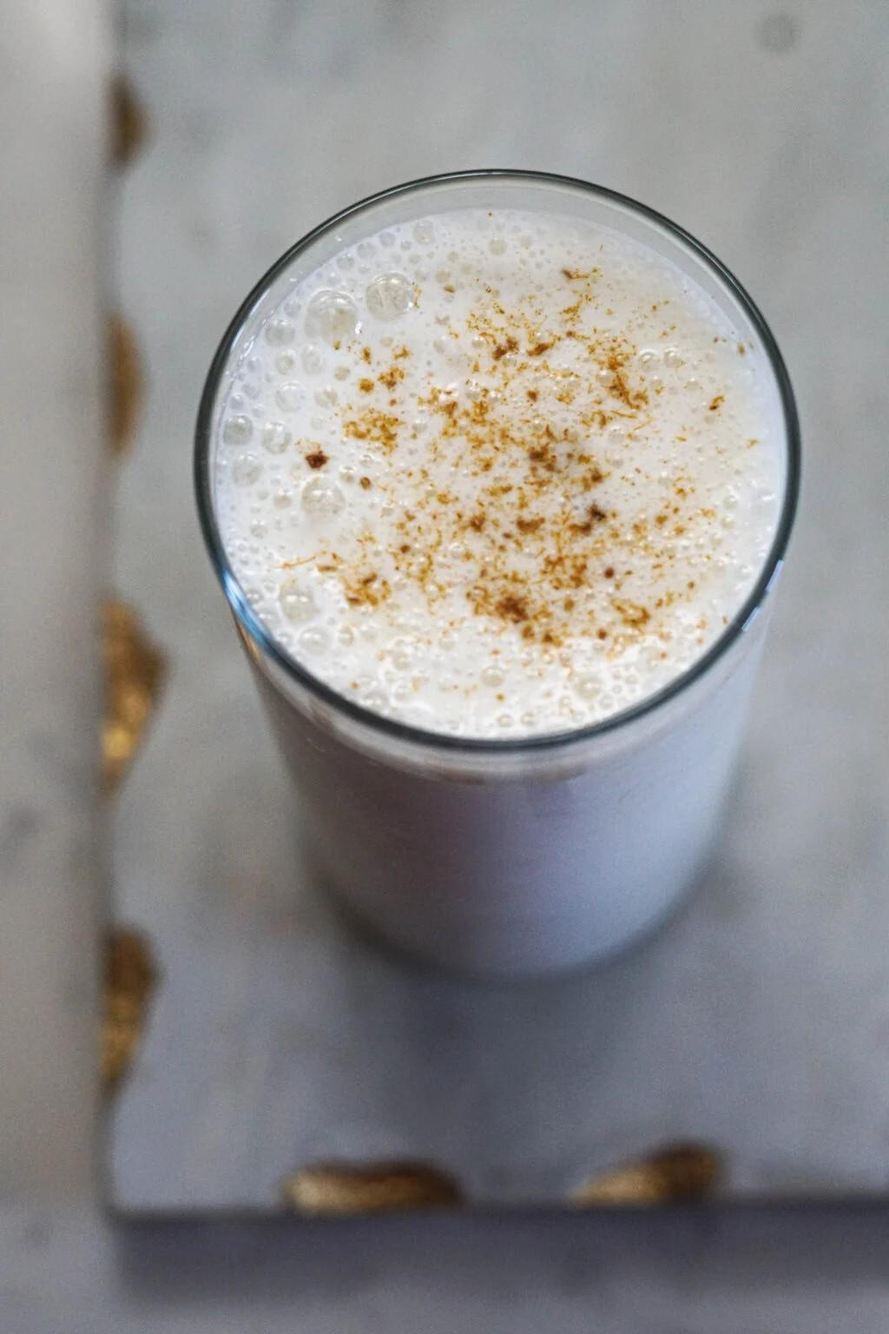Lassi: (207, 209, 789, 975)
